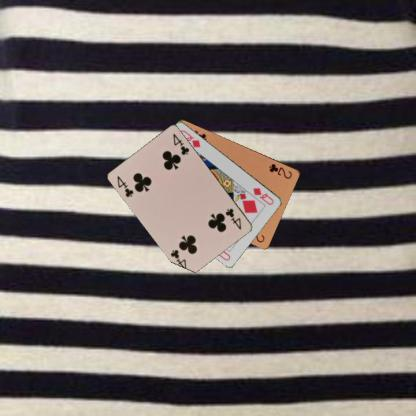2c: (266, 161, 294, 180)
4c: (114, 173, 136, 199), (223, 206, 243, 231)
Qd: (250, 185, 275, 206)
